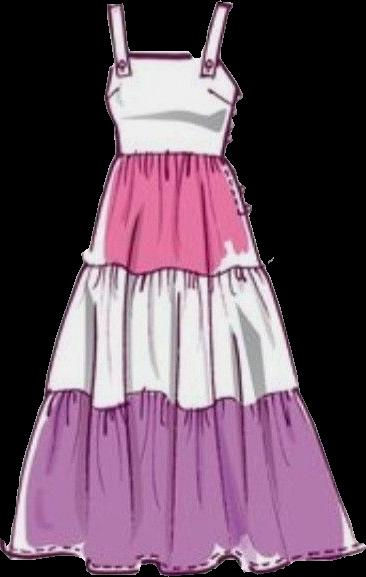Bodice: (104, 2, 238, 157)
Hemline: (4, 544, 364, 576)
Neckline: (117, 0, 222, 59)
Skirt: (5, 153, 361, 575)
Waistline: (43, 383, 297, 412), (79, 260, 268, 278), (112, 152, 227, 161)
